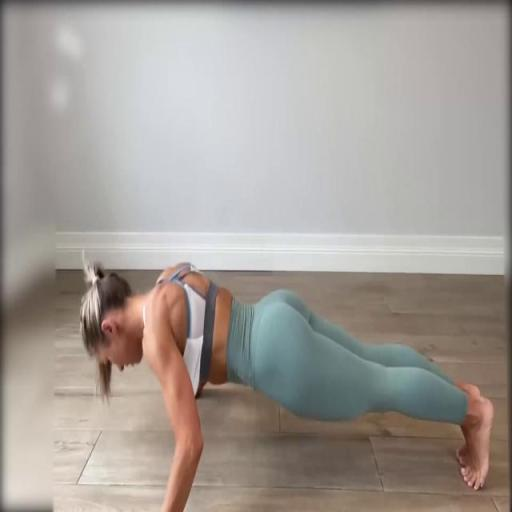Normal_BrenchPress: (79, 259, 495, 509)
